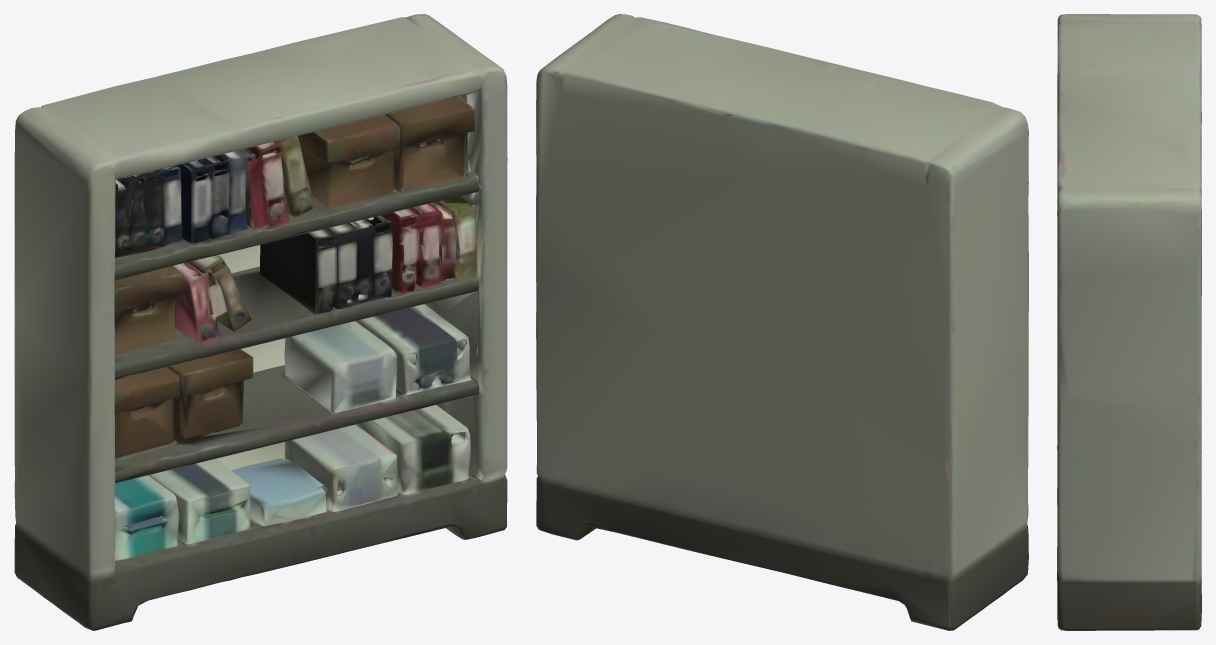
File: paper_shelf.glb
3 views of the same model, side by side, from view 1: azimuth 30°, elevation 25°; view 2: azimuth 150°, elevation 25°; view 3: azimuth 270°, elevation 25° (orthographic). The views are drawn at different scales.
Visible parts, largest first — view 1: geometry_0; view 2: geometry_0; view 3: geometry_0.
Part boxes in pixels (bbox=[...]): geometry_0: bbox=[14, 14, 507, 630]; geometry_0: bbox=[536, 14, 1028, 630]; geometry_0: bbox=[1057, 14, 1201, 630].
Bounding box in the file's own units: 0.9414 × 1 × 0.3024.
1 material, 1 textured.
